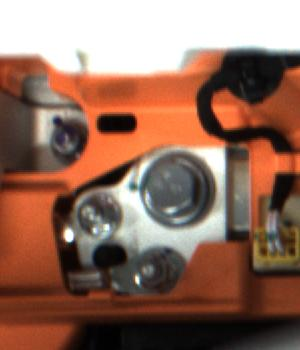nut_b: (135, 145, 219, 230)
